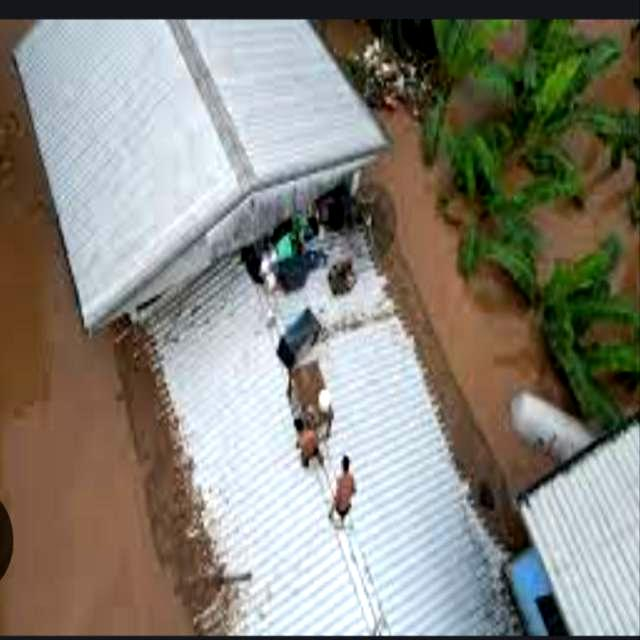civilian: (331, 450, 378, 535), (287, 416, 322, 464)
